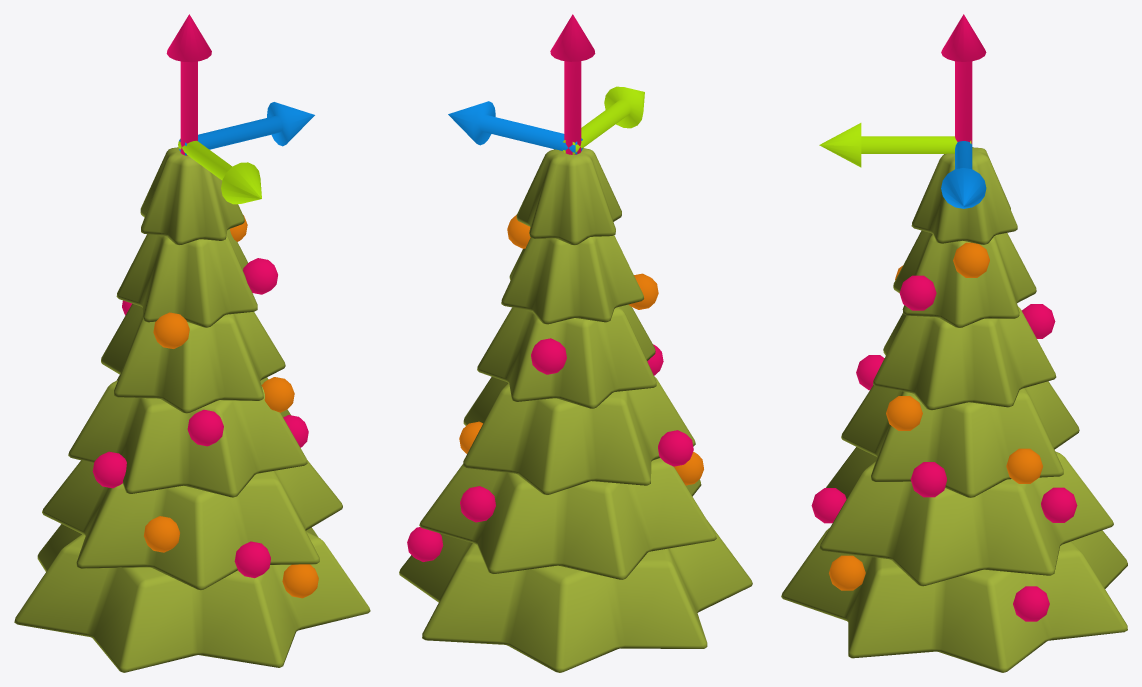
File: christmasTreeVisual-ktx.glb
3 renders of one model, left to right at view 1: azimuth 30°, elevation 25°; view 2: azimuth 150°, elevation 25°; view 3: azimuth 270°, elevation 25°, orthographic.
Parts seen in each view (by area): view 1: christmasTreeBody, emissive; view 2: christmasTreeBody, emissive; view 3: christmasTreeBody, emissive.
Boxes of the visible parts, x1=… form: christmasTreeBody: x1=14, y1=147, x2=370, y2=672; emissive: x1=92, y1=14, x2=318, y2=598; christmasTreeBody: x1=399, y1=148, x2=752, y2=672; emissive: x1=407, y1=14, x2=703, y2=561; christmasTreeBody: x1=781, y1=147, x2=1127, y2=672; emissive: x1=811, y1=14, x2=1077, y2=621.
Size of the model in its own units: 3.7 by 6.71 by 3.61.
